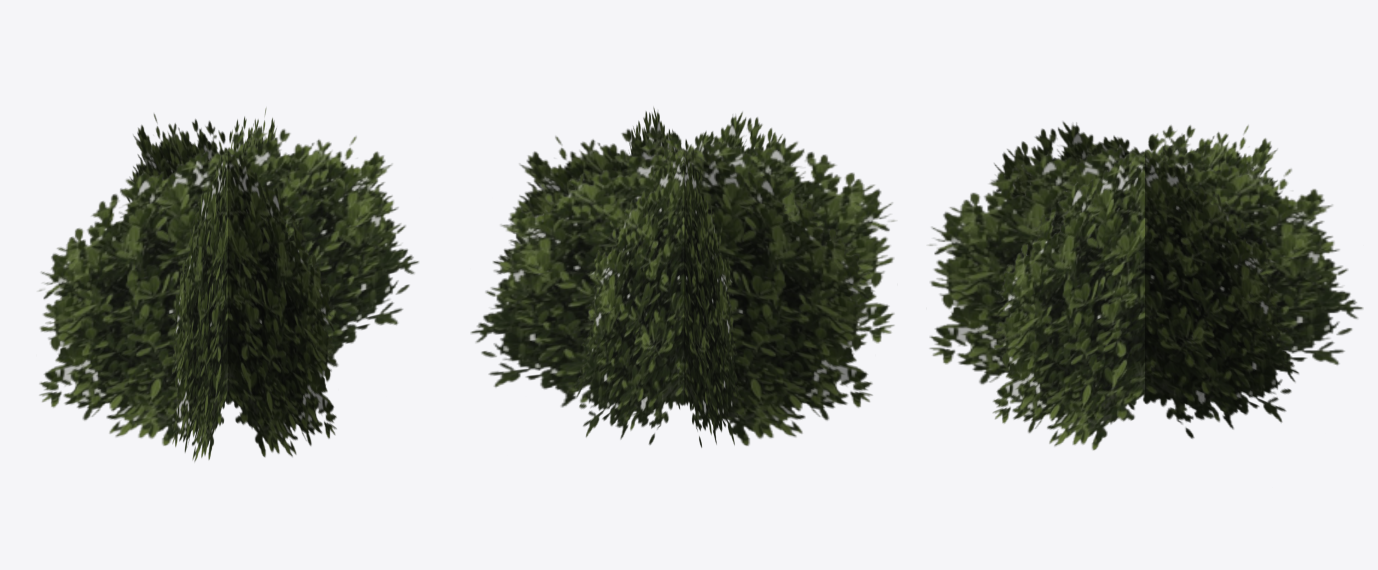
File: bush.glb
3 views of the same model, side by side, from view 1: azimuth 30°, elevation 25°; view 2: azimuth 150°, elevation 25°; view 3: azimuth 270°, elevation 25° (orthographic).
Visible parts, largest first — view 1: bush; view 2: bush; view 3: bush.
Part boxes in pixels (x1,y1,x2,y2): bush: (38,107,418,461); bush: (470,107,895,447); bush: (928,121,1362,450).
Size of the model in its own units: 1.22 by 1.1 by 1.22.
Materials: 1 (1 with a texture image).
